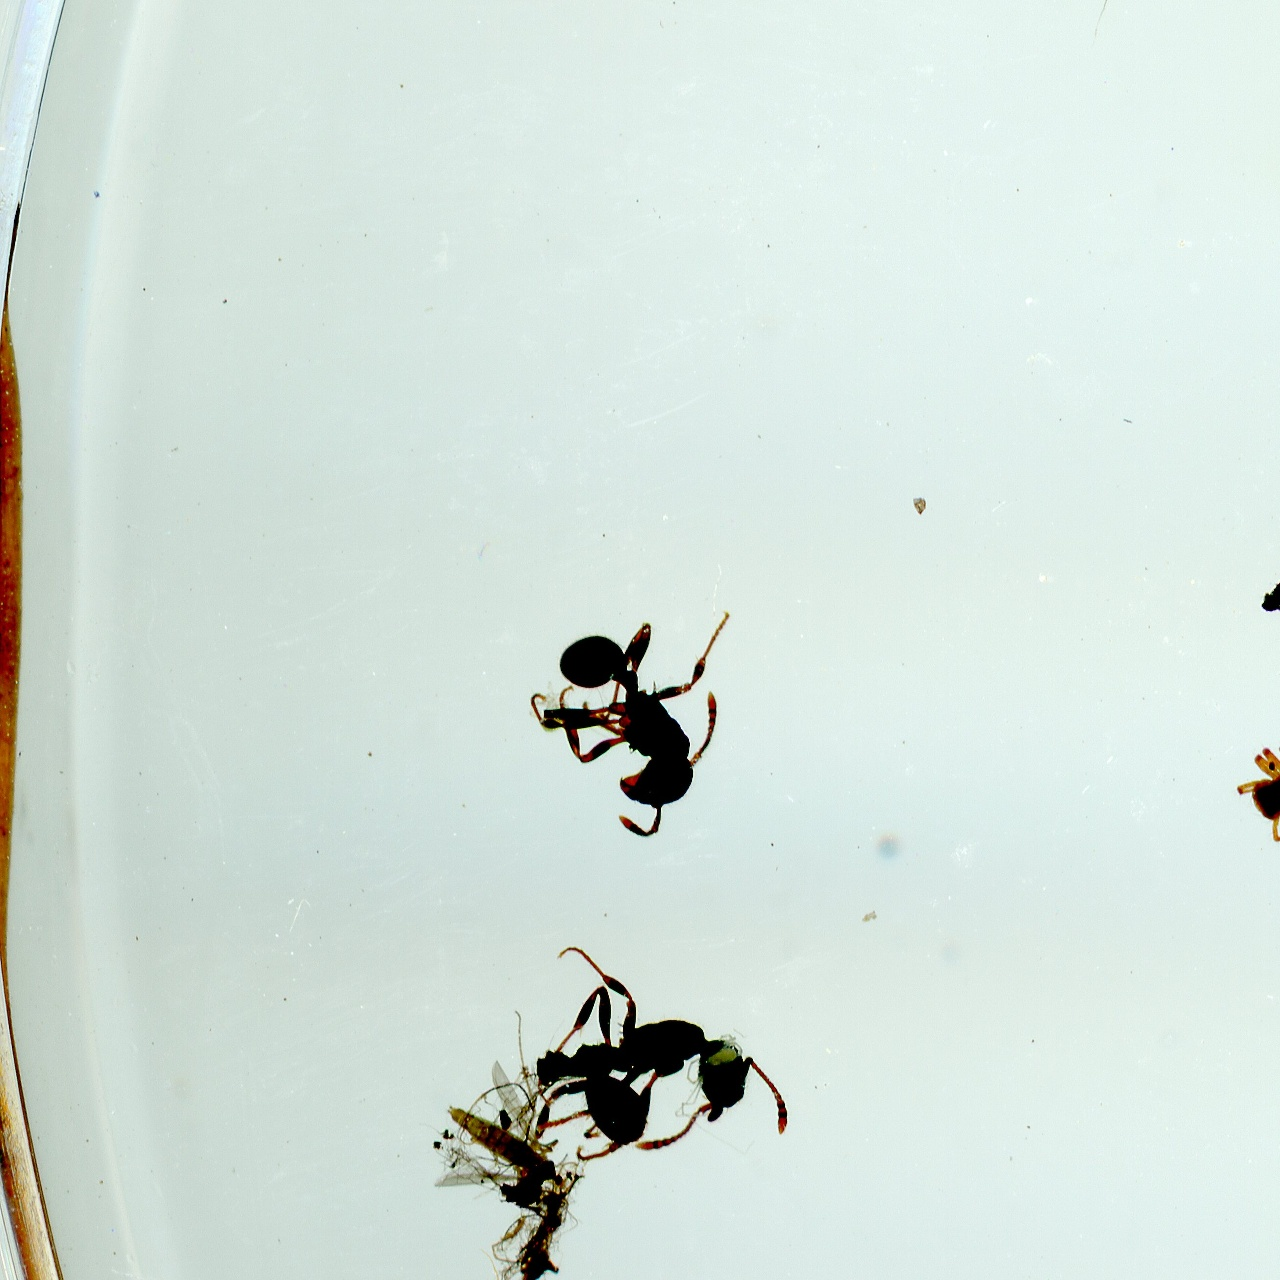arthropod: (530, 943, 796, 1171), (525, 607, 734, 843), (431, 1007, 569, 1192), (674, 1032, 759, 1157), (1224, 730, 1280, 855)
